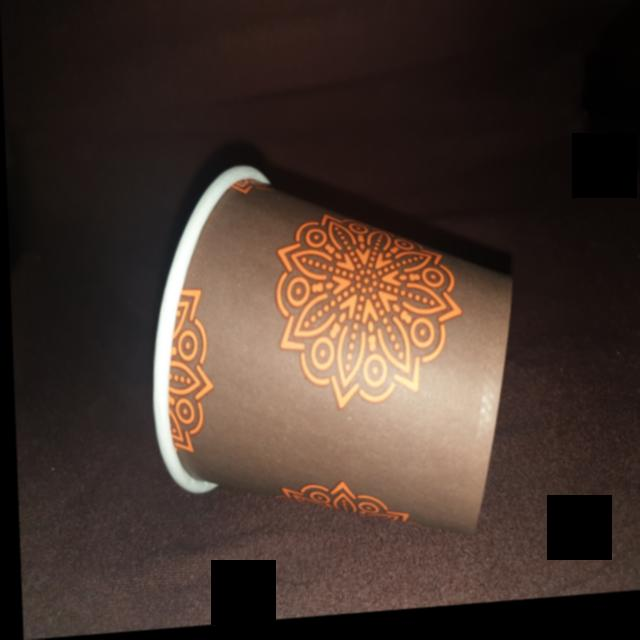cups: (140, 142, 522, 566)
